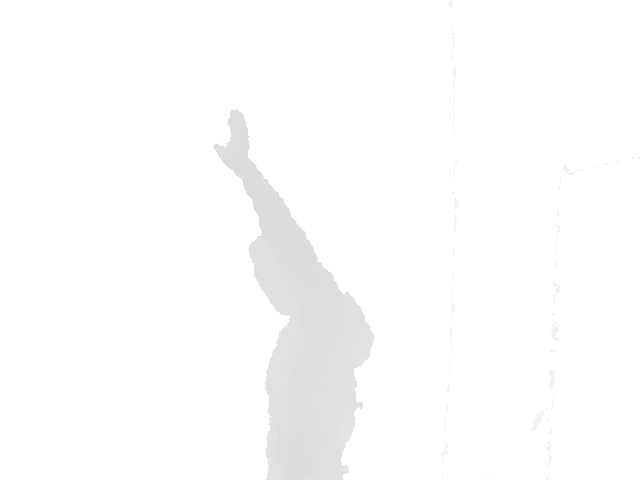hand: (213, 108, 258, 166)
head: (248, 232, 311, 316)
person: (213, 108, 375, 480)
